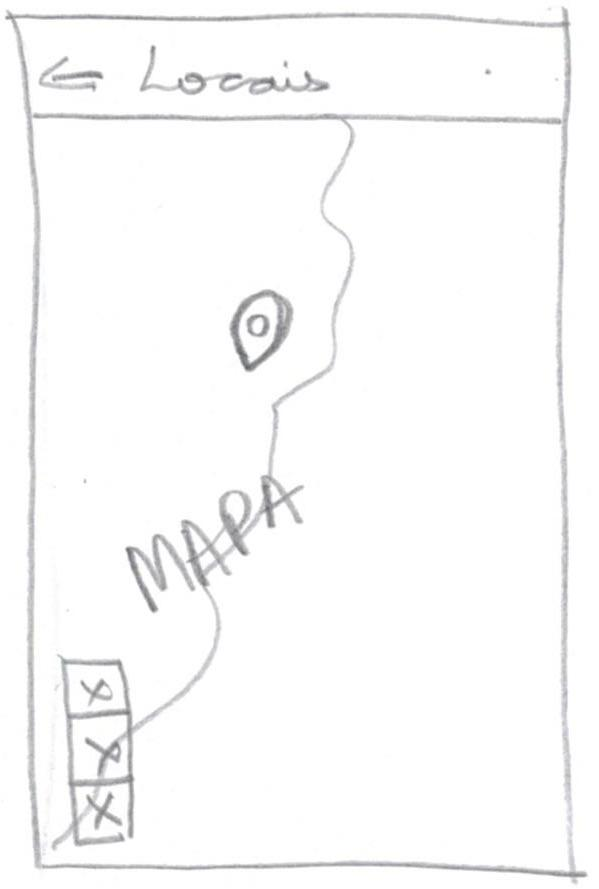Button: (37, 55, 106, 93)
Label: (136, 44, 330, 97)
Map: (25, 112, 575, 873)
Screen: (10, 11, 576, 879)
